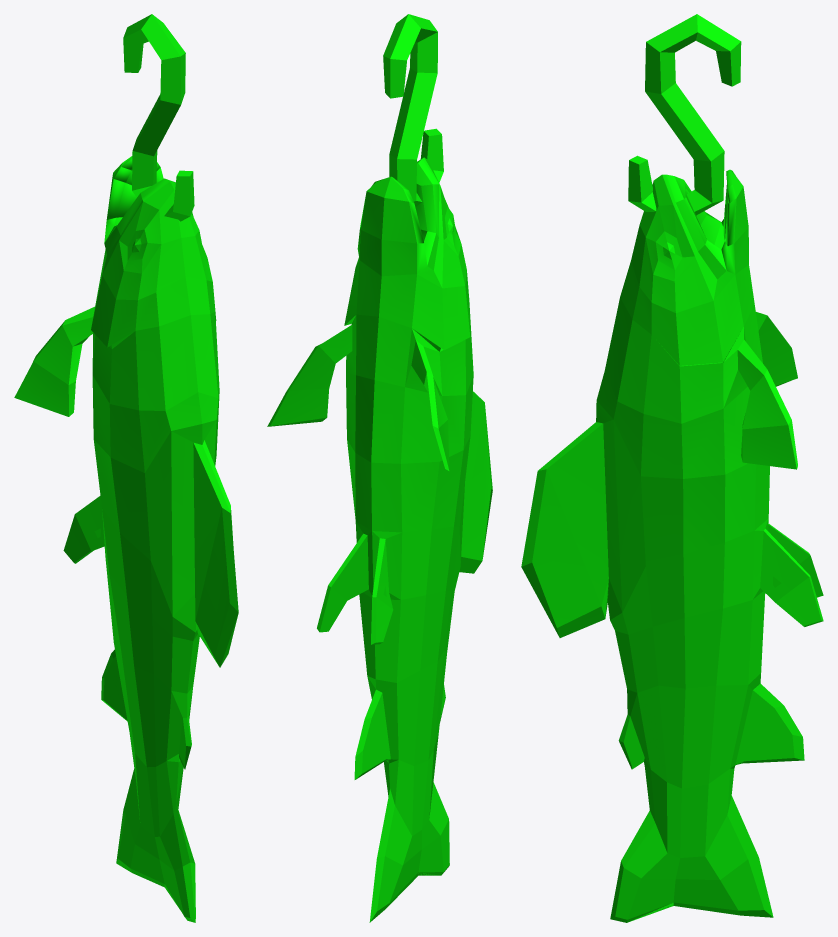
Rendered from SM_Fish_Trout_Hanging_B.fbx.
3 views of the same model, side by side, from view 1: azimuth 30°, elevation 25°; view 2: azimuth 150°, elevation 25°; view 3: azimuth 270°, elevation 25° (orthographic). The views are drawn at different scales.
Visible parts, largest first — view 1: fish-trout-hanging-b; view 2: fish-trout-hanging-b; view 3: fish-trout-hanging-b.
Boxes of the visible parts, x1,y1,x2,y2 form: fish-trout-hanging-b: (14,14,238,922); fish-trout-hanging-b: (267,14,492,922); fish-trout-hanging-b: (521,14,823,922).
Size of the model in its own units: 0.1433 by 0.6662 by 0.201.
